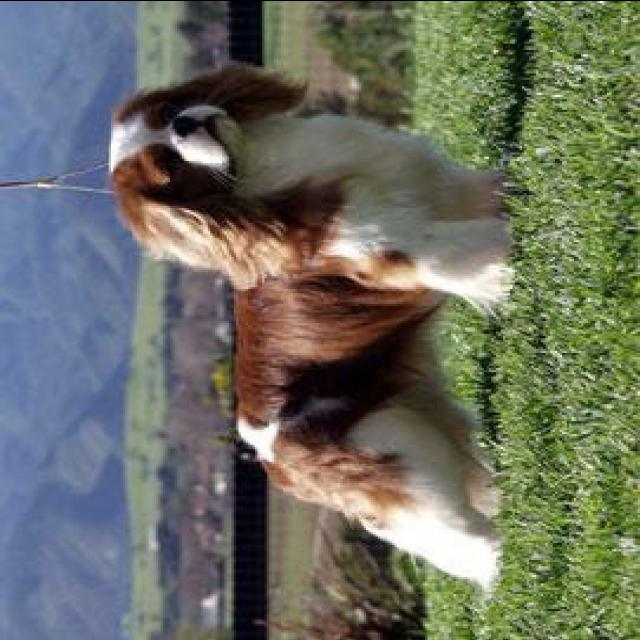husky: (102, 51, 510, 604)
